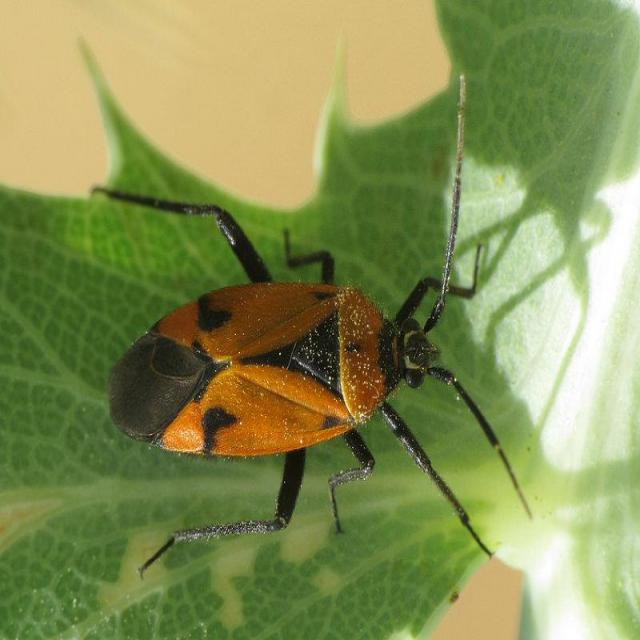Miridae-Adult-: (77, 65, 548, 572)
